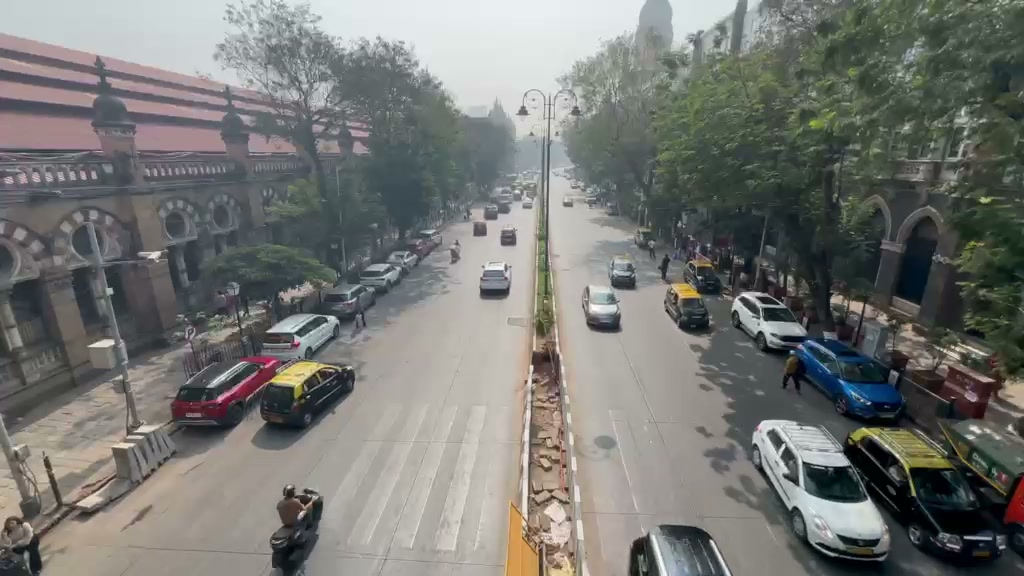car: (842, 423, 1008, 565), (750, 419, 892, 565), (780, 336, 906, 424), (171, 354, 286, 428), (937, 416, 1024, 505), (257, 360, 355, 429), (628, 524, 733, 575), (730, 291, 808, 353), (261, 312, 340, 362), (318, 281, 378, 319), (663, 282, 710, 330), (582, 286, 622, 331), (1004, 472, 1024, 556), (669, 292, 711, 331), (359, 263, 402, 293), (479, 261, 512, 298), (608, 257, 638, 288), (387, 250, 419, 271), (696, 271, 724, 295), (500, 227, 518, 246)
pedestrian: (1, 515, 44, 575), (275, 485, 309, 528)
